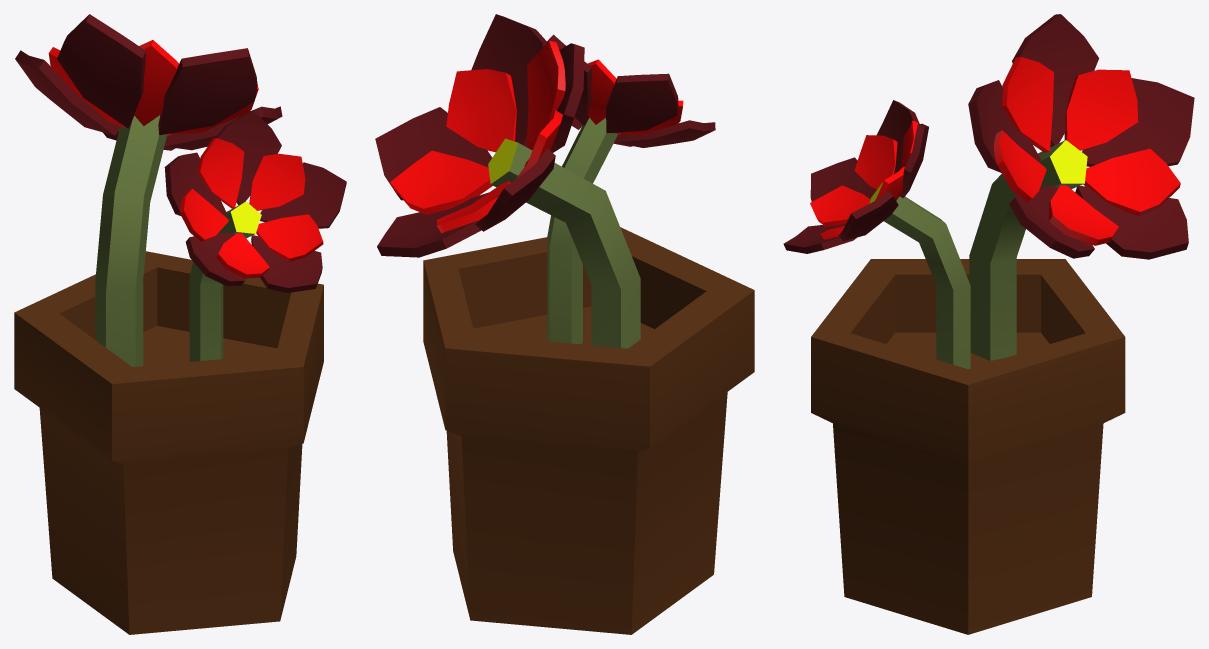
The model's file is g_o_Flower1.fbx.
3 views of the same model, side by side, from view 1: azimuth 30°, elevation 25°; view 2: azimuth 150°, elevation 25°; view 3: azimuth 270°, elevation 25° (orthographic). The views are drawn at different scales.
Parts seen in each view (by area): view 1: Flowerpot7; view 2: Flowerpot7; view 3: Flowerpot7.
Part boxes in pixels (x1,y1,x2,y2): Flowerpot7: [14, 14, 346, 634]; Flowerpot7: [375, 14, 754, 634]; Flowerpot7: [783, 14, 1194, 634].
Size of the model in its own units: 0.4306 by 0.8607 by 0.5902.
Materials: 1 (1 with a texture image).
